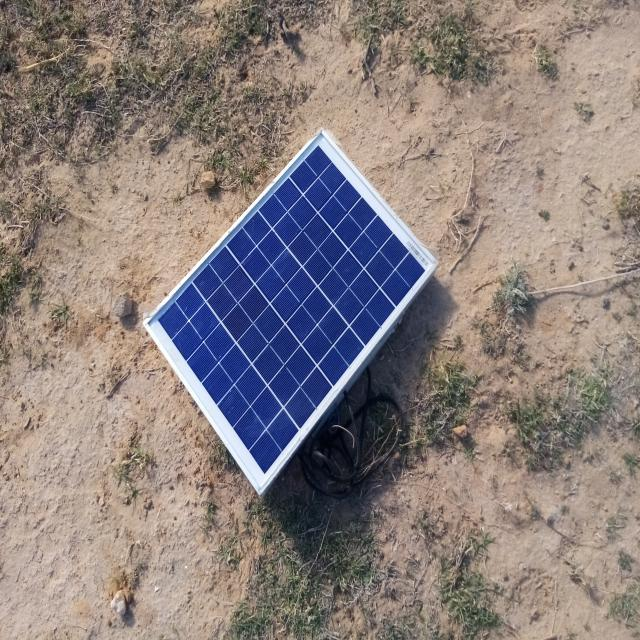no faulty: (142, 129, 438, 494)
